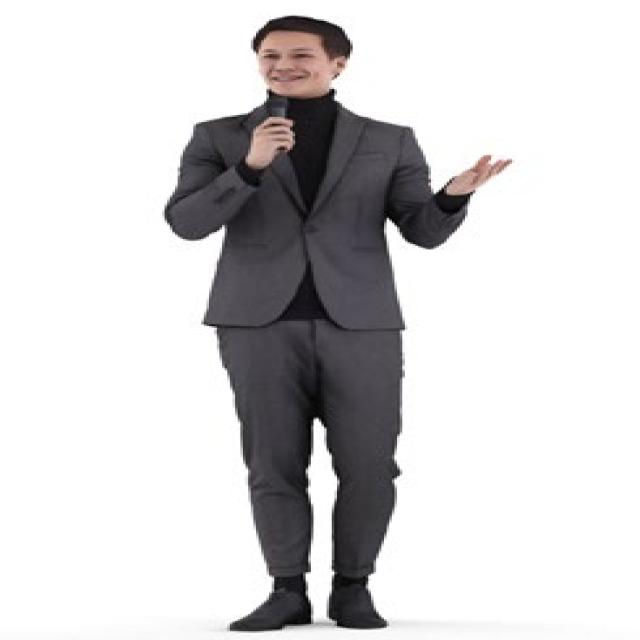standing: (157, 15, 514, 634)
